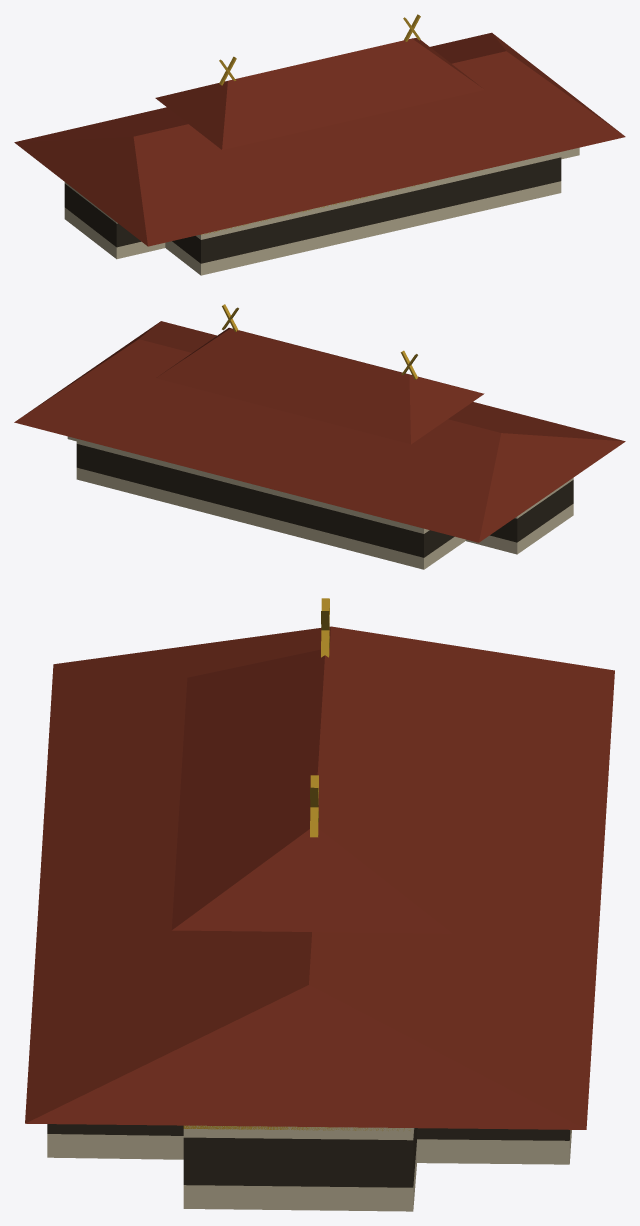
File: anjung-seni-idrus-tintin-lod0.glb
The picture shows the model from 3 angles, top to bottom: view 1: azimuth 30°, elevation 25°; view 2: azimuth 150°, elevation 25°; view 3: azimuth 270°, elevation 25°; orthographic projection. The views are drawn at different scales.
Parts seen in each view (by area): view 1: anjung-seni-idrus-tintin_LOD0; view 2: anjung-seni-idrus-tintin_LOD0; view 3: anjung-seni-idrus-tintin_LOD0.
Boxes of the visible parts, x1,y1,x2,y2 form: anjung-seni-idrus-tintin_LOD0: (14, 14, 625, 275); anjung-seni-idrus-tintin_LOD0: (14, 304, 625, 569); anjung-seni-idrus-tintin_LOD0: (25, 598, 614, 1211).
Size of the model in its own units: 87.36 by 25.84 by 46.77.
